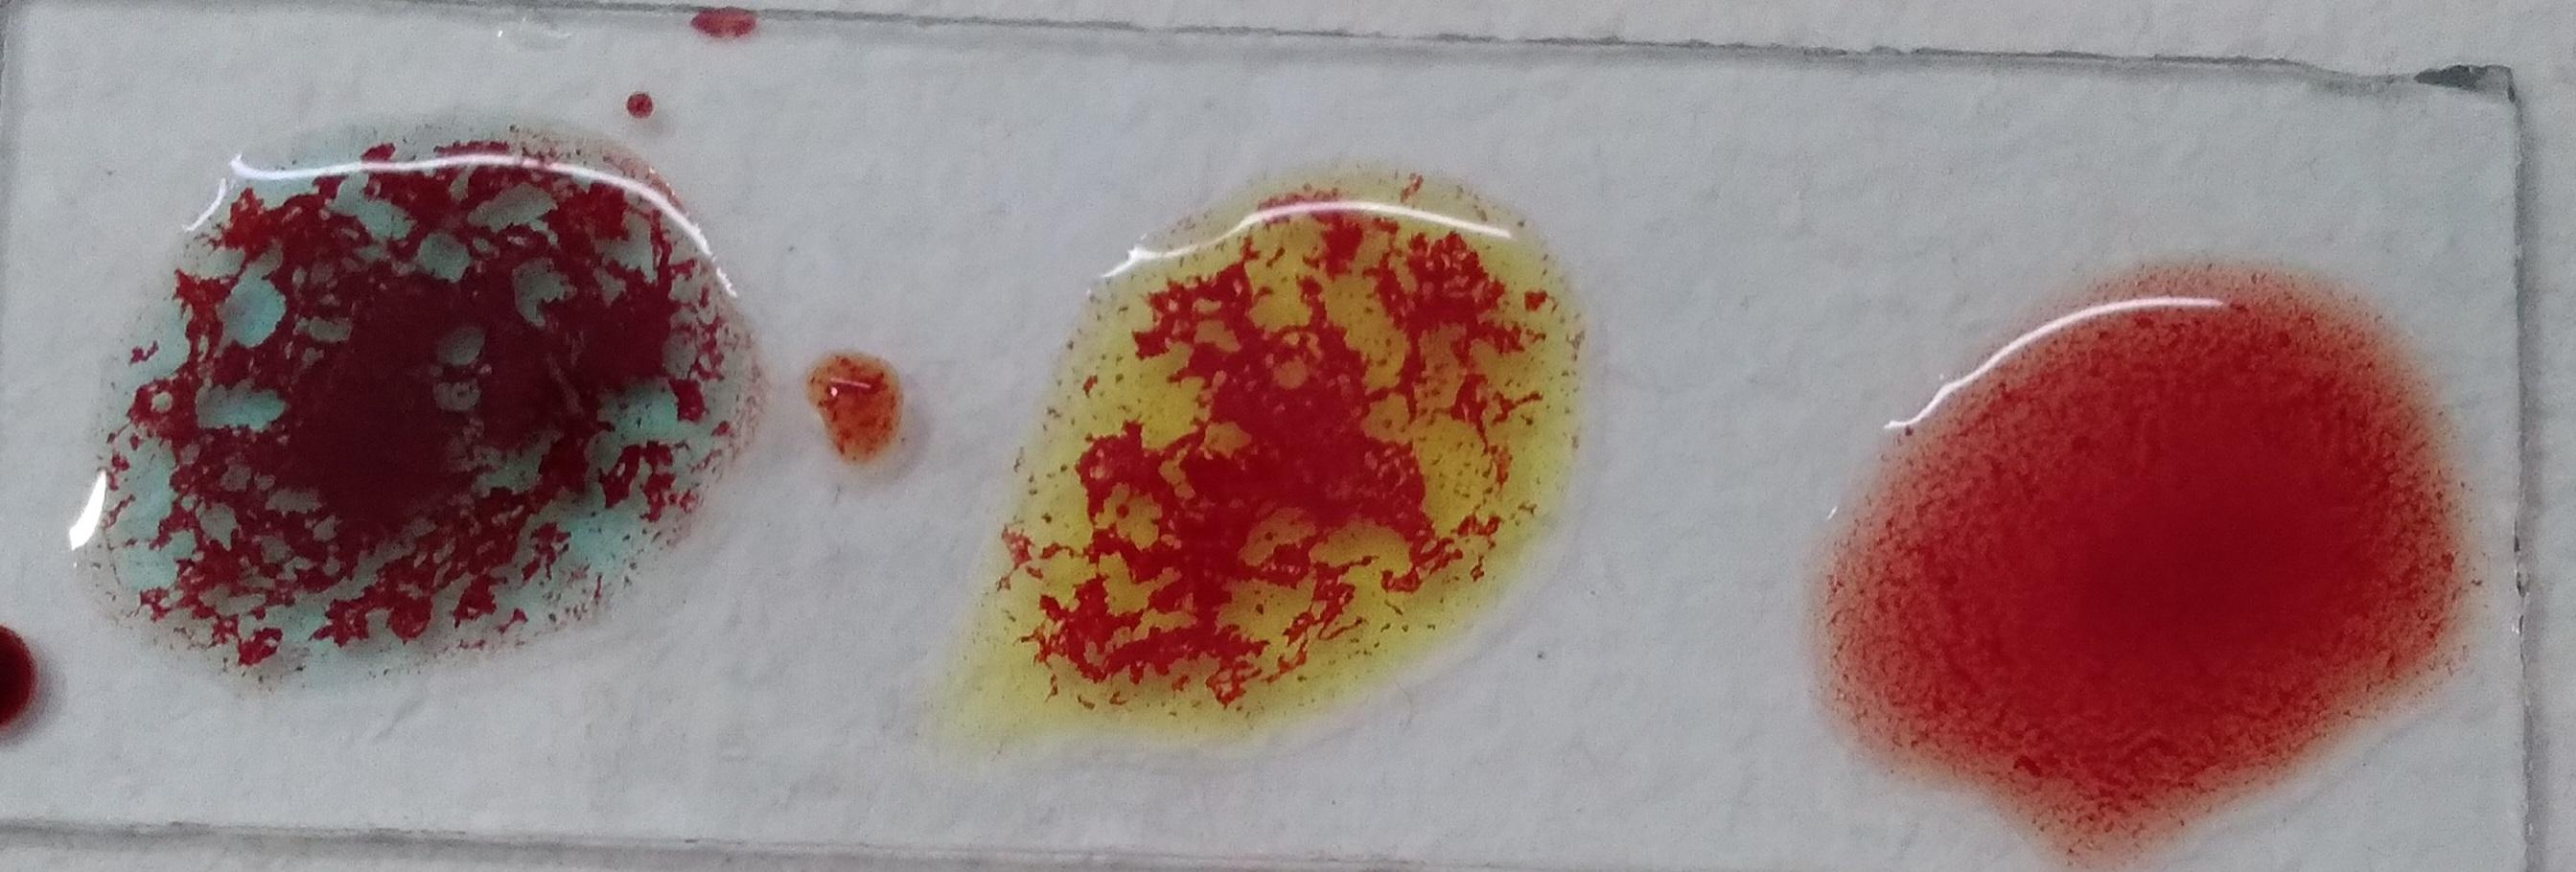A: (1815, 181, 2481, 769)
B: (959, 141, 1574, 685)
D: (103, 34, 734, 611)
